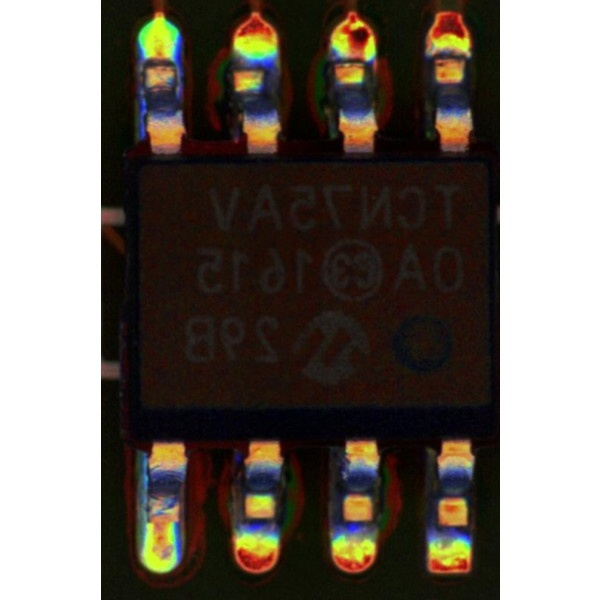Bad_podu: (152, 502, 172, 544), (150, 49, 172, 80)
Bad_qiaojiao: (344, 48, 365, 79)
